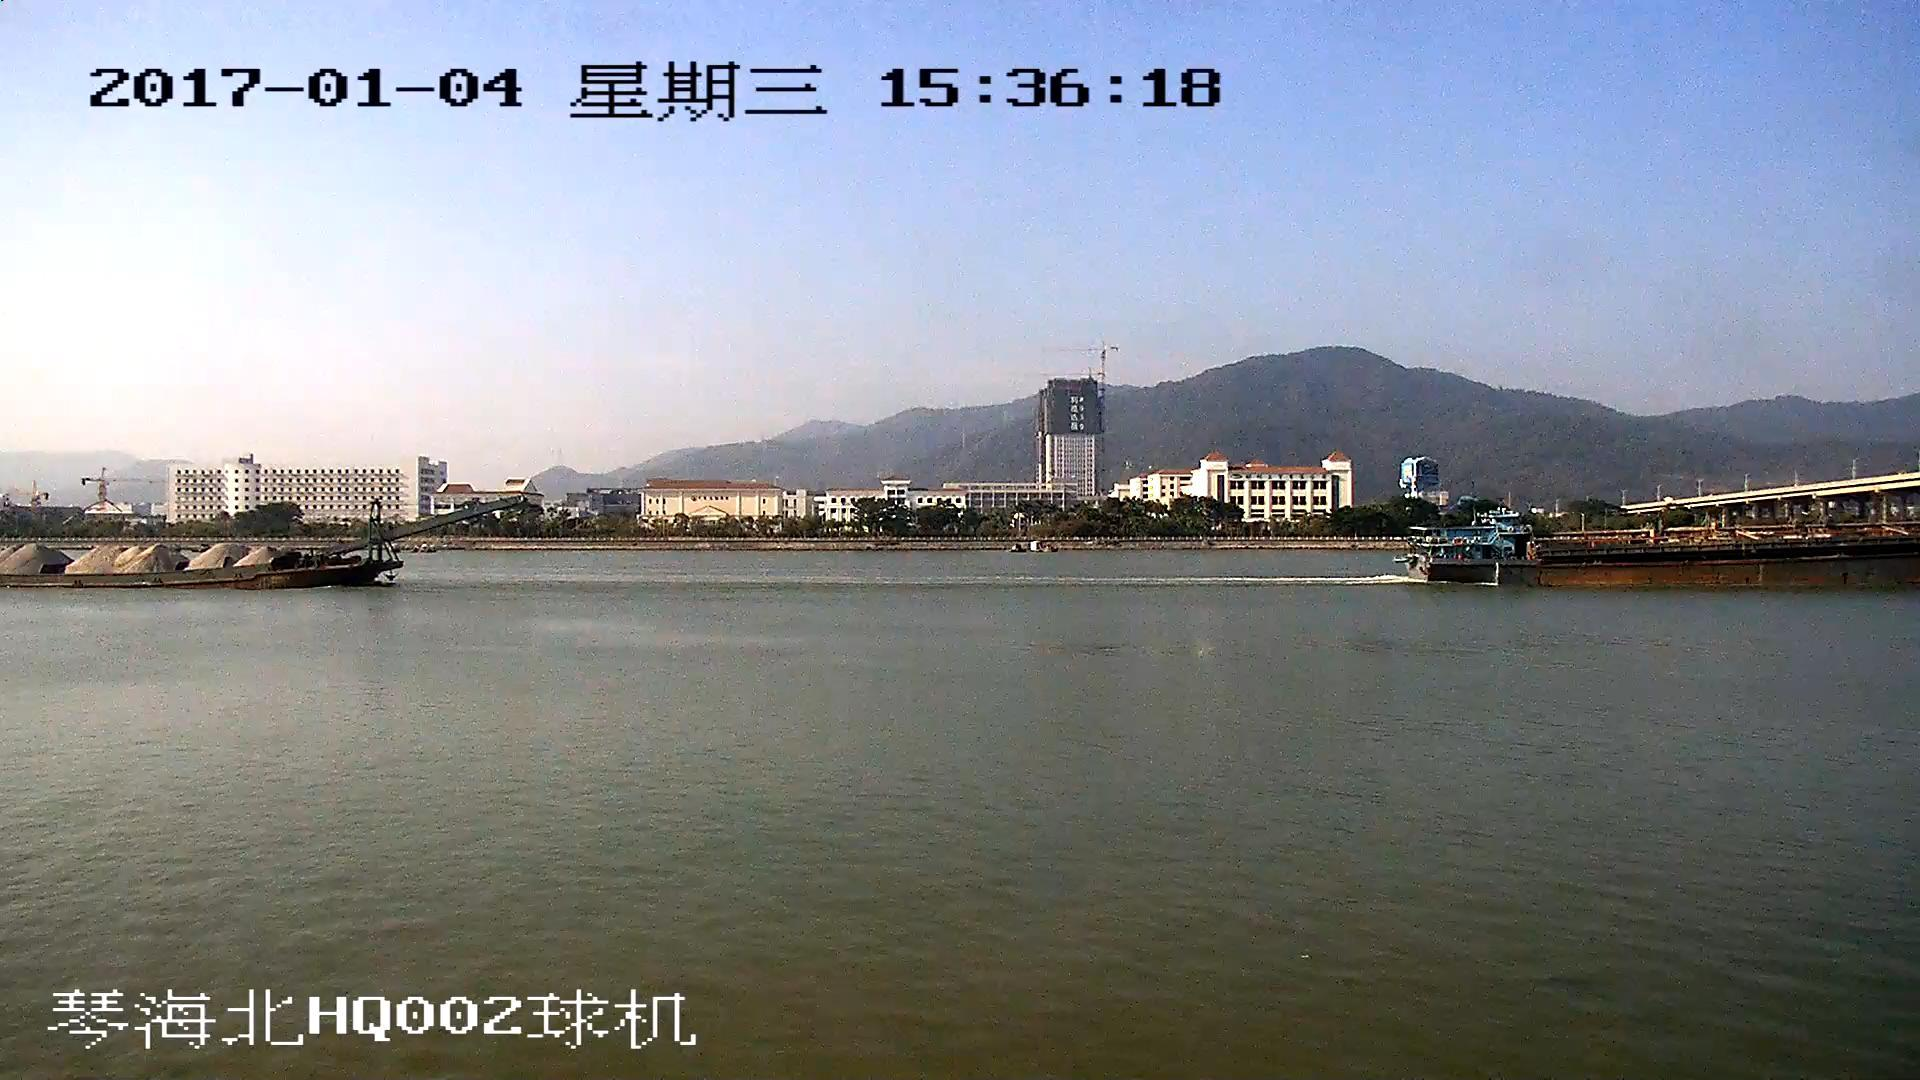Ship: (3, 500, 521, 585), (1411, 521, 1920, 589)
